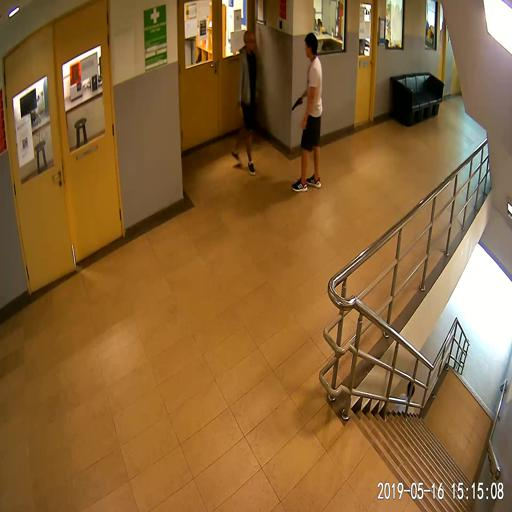pistol: (291, 95, 303, 111)
